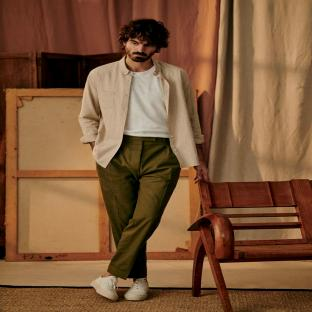Human: (79, 19, 208, 300)
